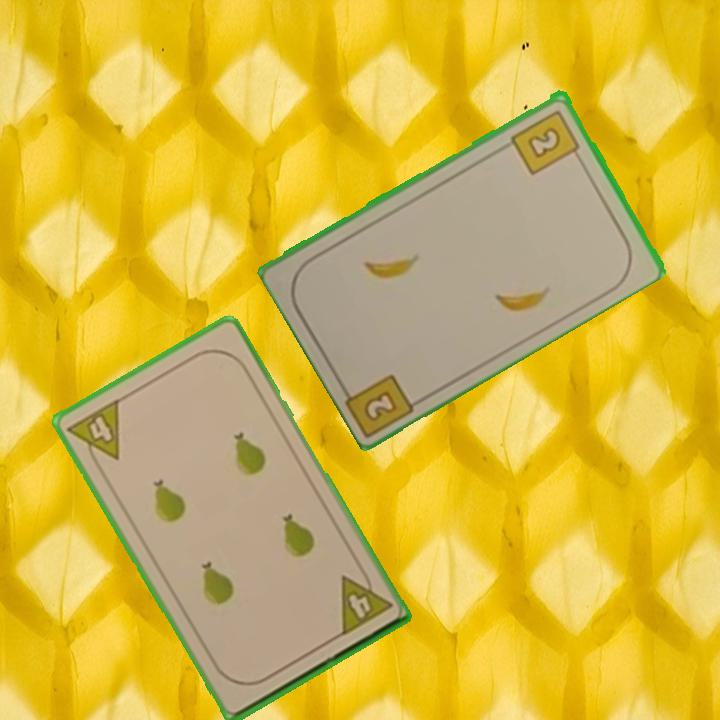2b: (507, 106, 583, 177), (360, 386, 400, 425)
4p: (63, 395, 123, 473), (336, 563, 395, 639)
